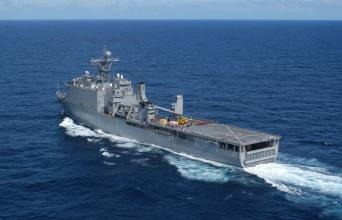warship: (44, 47, 284, 168)
